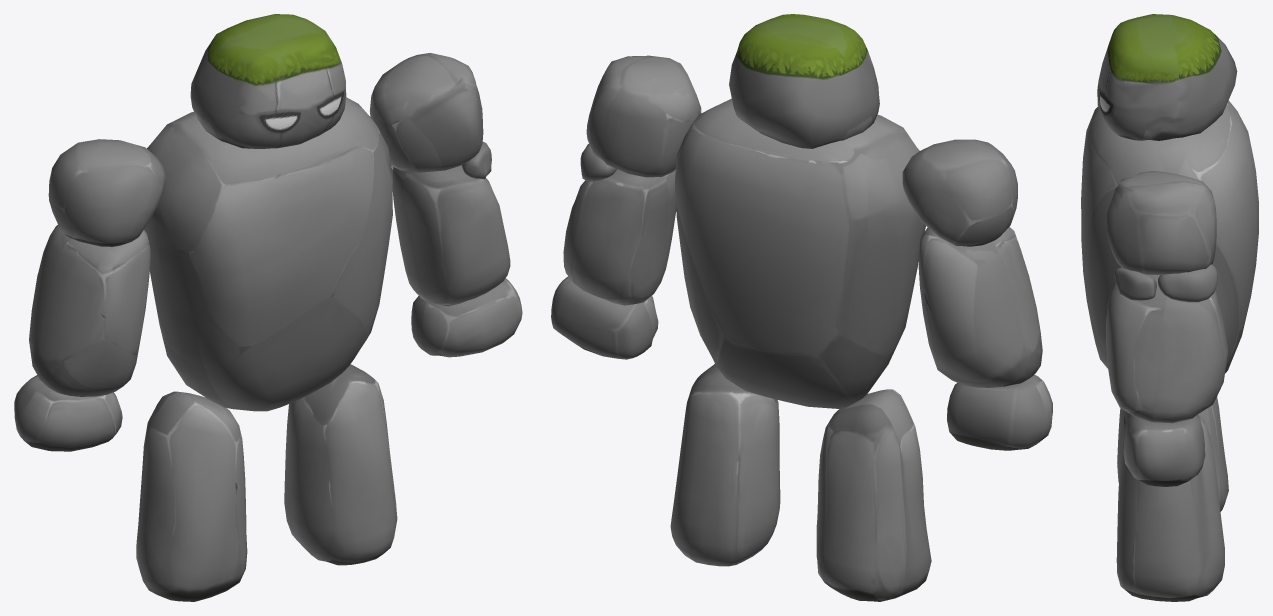
The model's file is monster_3.fbx.
3 renders of one model, left to right at view 1: azimuth 30°, elevation 25°; view 2: azimuth 150°, elevation 25°; view 3: azimuth 270°, elevation 25°, orthographic. The views are drawn at different scales.
Parts seen in each view (by area): view 1: ZBrush_defualt_group; view 2: ZBrush_defualt_group; view 3: ZBrush_defualt_group.
Part boxes in pixels (x1,y1,x2,y2): ZBrush_defualt_group: (14,14,522,601); ZBrush_defualt_group: (551,14,1052,601); ZBrush_defualt_group: (1081,14,1258,601).
Size of the model in its own units: 50.46 by 53.11 by 16.19.
1 material, 1 textured.
